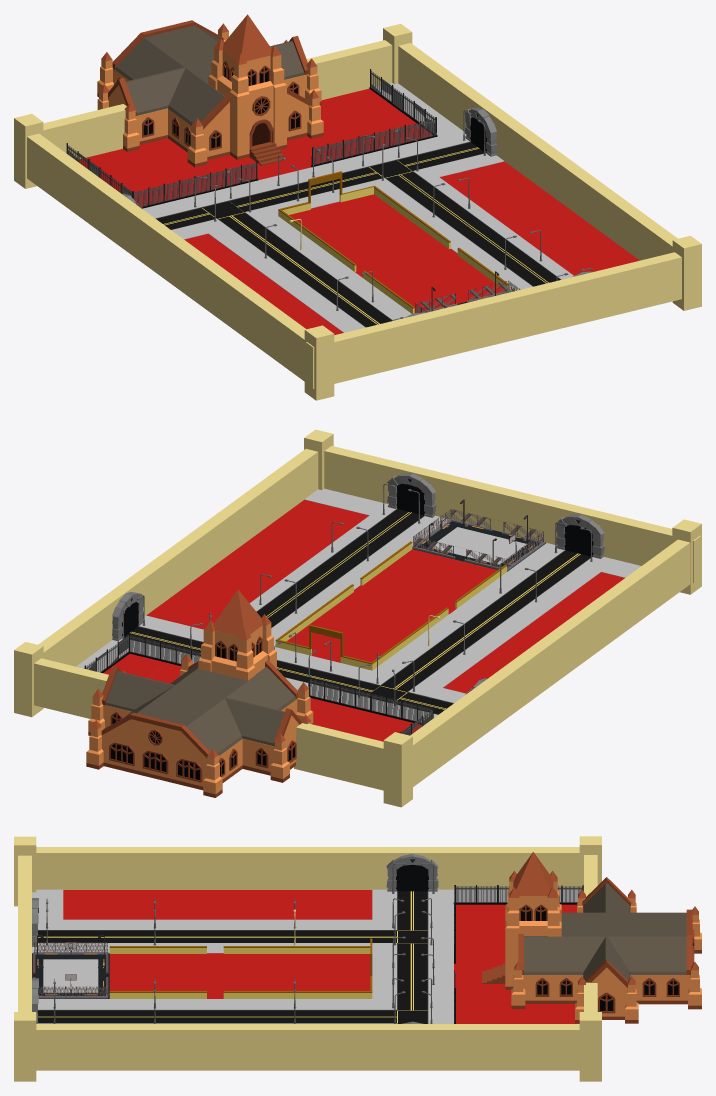
File: street404.obj
The picture shows the model from 3 angles, top to bottom: view 1: azimuth 30°, elevation 25°; view 2: azimuth 150°, elevation 25°; view 3: azimuth 270°, elevation 25°; orthographic projection. The views are drawn at different scales.
Parts seen in each view (by area): view 1: Cube, Cube.021, church2, Base, door_arc, Cube.001, Cube.005, Cube.008; view 2: Cube, Cube.021, church2, Base, Court, door_arc.002, door_arc.003, door_arc, Cube.018, Cube.017, Cube.007, Cube.008 (+2 smaller); view 3: Cube, Cube.021, church2, Base, Court, door_arc.001, Cube.015, Cube.009, Cube.012.
Boxes of the visible parts, x1=… form: Cube: x1=78, y1=83, x2=639, y2=334; Cube.021: x1=14, y1=23, x2=701, y2=400; church2: x1=97, y1=14, x2=323, y2=167; Base: x1=415, y1=280, x2=520, y2=312; door_arc: x1=464, y1=107, x2=496, y2=156; Cube.001: x1=404, y1=117, x2=436, y2=144; Cube.005: x1=163, y1=176, x2=196, y2=203; Cube.008: x1=225, y1=161, x2=258, y2=187; Cube: x1=76, y1=488, x2=641, y2=741; Cube.021: x1=14, y1=429, x2=701, y2=807; church2: x1=86, y1=589, x2=313, y2=797; Base: x1=412, y1=509, x2=545, y2=571; Court: x1=433, y1=527, x2=527, y2=564; door_arc.002: x1=556, y1=514, x2=604, y2=558; door_arc.003: x1=387, y1=473, x2=436, y2=517; door_arc: x1=112, y1=592, x2=143, y2=641; Cube.018: x1=564, y1=525, x2=593, y2=556; Cube.017: x1=396, y1=483, x2=424, y2=515; Cube.007: x1=338, y1=685, x2=371, y2=711; Cube.008: x1=308, y1=677, x2=340, y2=704; Cube: x1=32, y1=889, x2=579, y2=1023; Cube.021: x1=14, y1=836, x2=601, y2=1081; church2: x1=482, y1=852, x2=701, y2=1023; Base: x1=32, y1=942, x2=109, y2=998; Court: x1=43, y1=959, x2=98, y2=992; door_arc.001: x1=386, y1=853, x2=438, y2=891; Cube.015: x1=396, y1=864, x2=428, y2=891; Cube.009: x1=453, y1=885, x2=499, y2=904; Cube.012: x1=557, y1=885, x2=583, y2=904.
Size of the model in its own units: 13.78 by 4.89 by 21.73.
